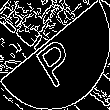P_NW: (29, 23, 81, 87)
